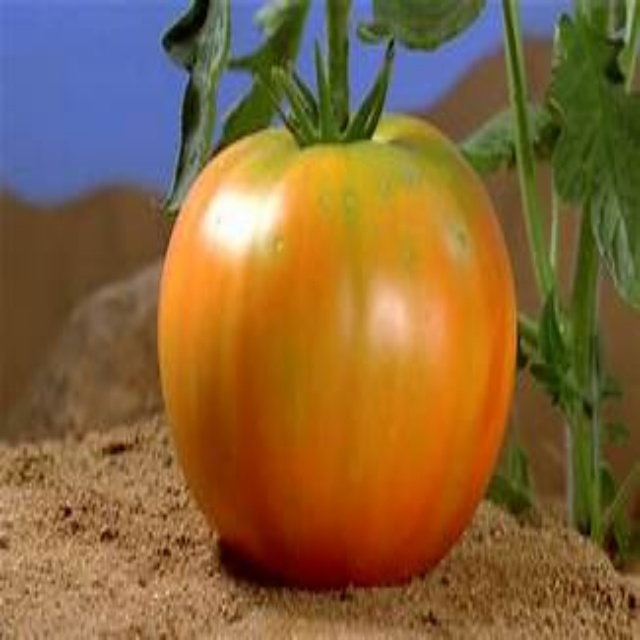tomato: (143, 103, 528, 586)
